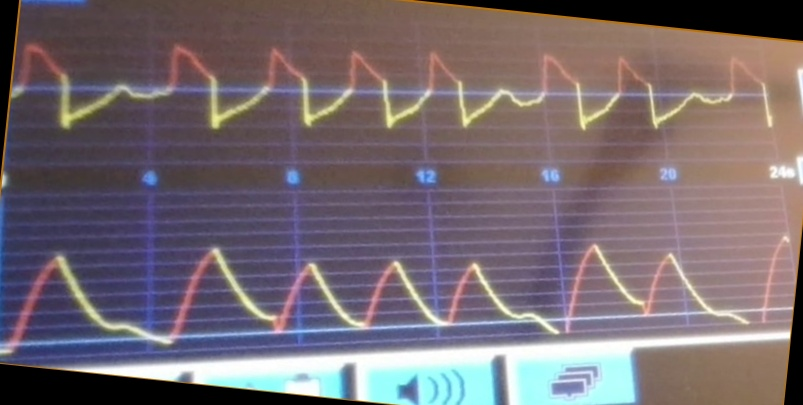Ineffective_effort Flow: (15, 37, 771, 151)
Ineffective_effort Volume: (1, 239, 786, 348)
